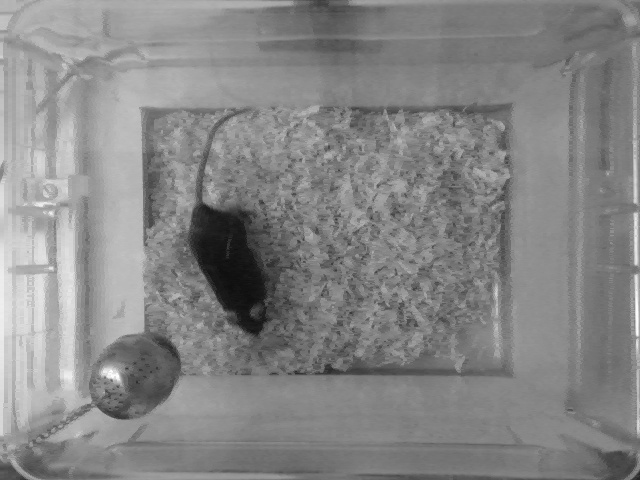mice: (193, 94, 270, 341)
